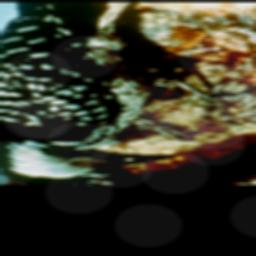Woodpecker: (0, 2, 256, 184)
